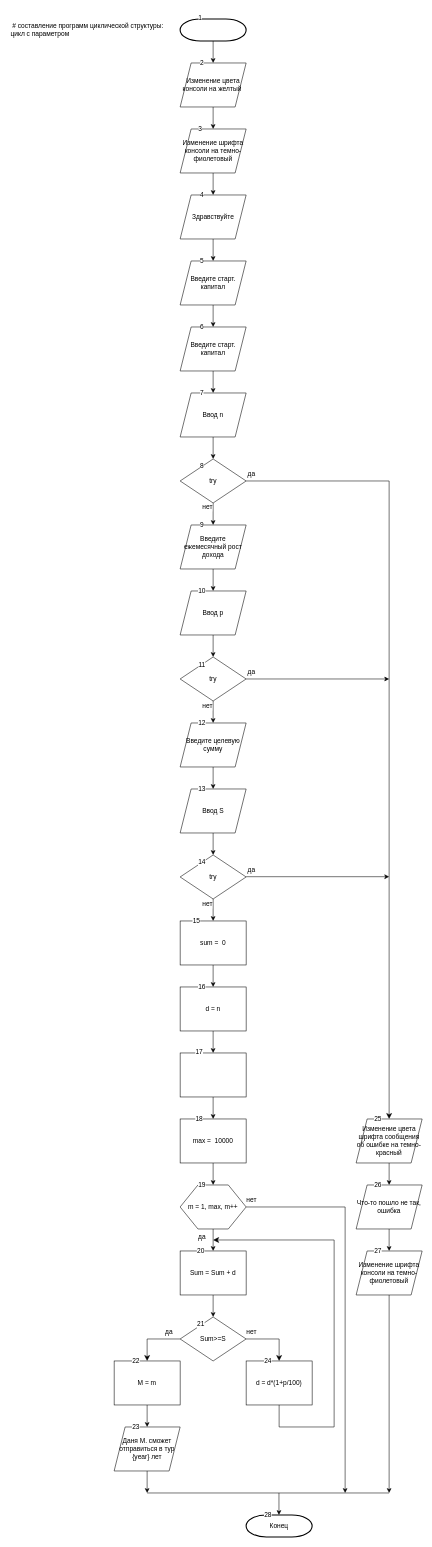
The diagram is 432 pixels wide and 1547 high, and some of its shapes have lost their labels. The shapes that lost their labels are listed below. From the top down, each one's centre as x and y in pixels, then its label:
At (x=212, y=29): "Начало".
At (x=213, y=1074): "M = 0".
